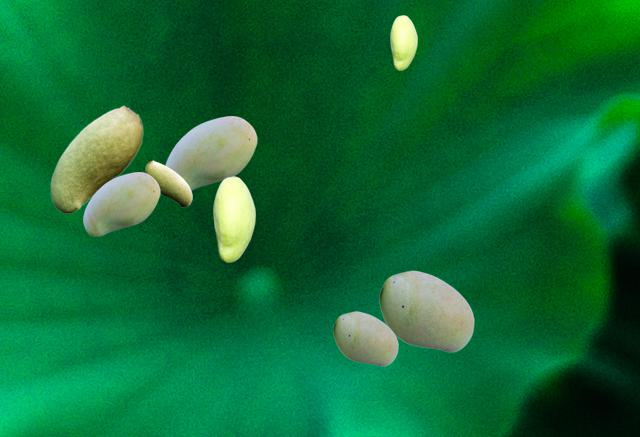green_mango: (50, 105, 142, 212), (379, 270, 473, 351), (165, 116, 256, 190), (83, 172, 159, 235), (213, 176, 254, 261), (333, 311, 397, 365), (145, 160, 191, 206), (390, 15, 416, 69)
